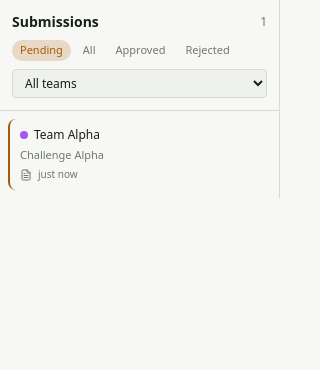
Test: SubmissionList › filters by status when clicking filter pills
Expected: the button with test id "submission-card-sub-1" is shown, [8, 118, 271, 190]
// Switch to "All" filter
Click the button with test id "filter-all" at point(89, 50), box [75, 40, 104, 60]
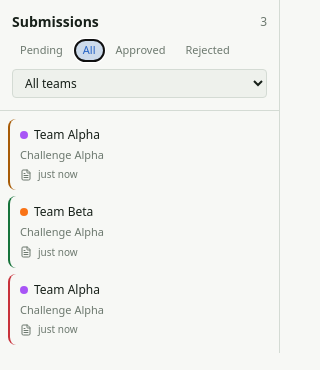
Now the button with test id "submission-card-sub-2" is shown, box [8, 196, 271, 268]
Now the button with test id "submission-card-sub-3" is shown, box [8, 274, 271, 345]
